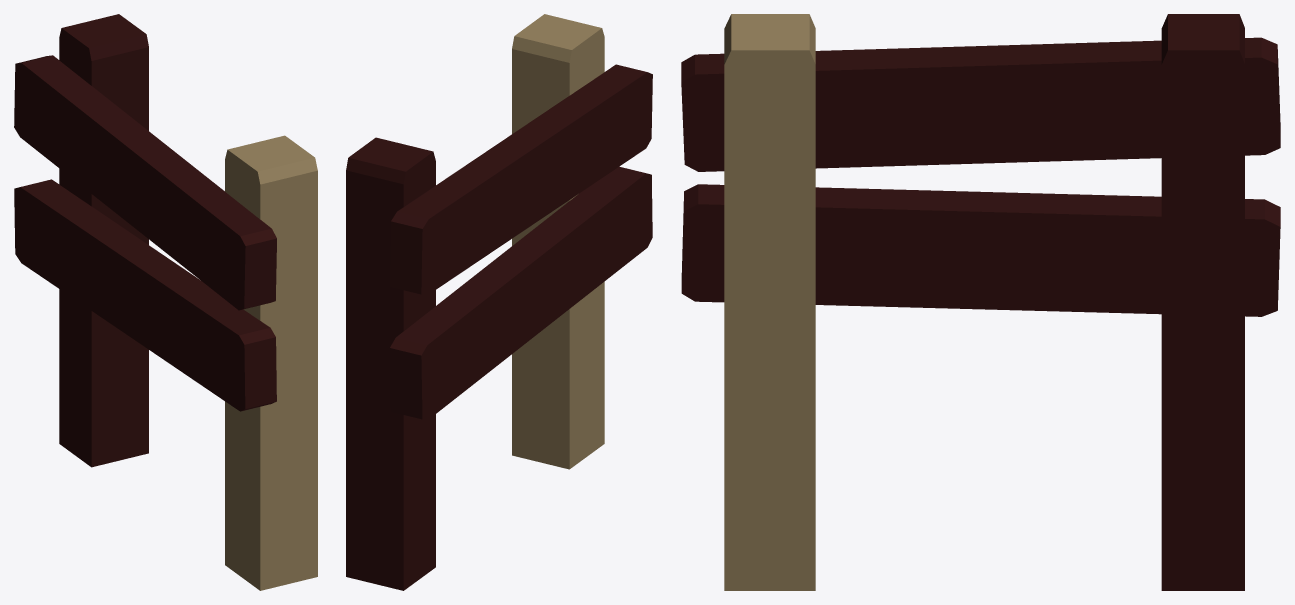
Rendered from fence1.fbx.
3 renders of one model, left to right at view 1: azimuth 30°, elevation 25°; view 2: azimuth 150°, elevation 25°; view 3: azimuth 270°, elevation 25°, orthographic. The views are drawn at different scales.
Parts seen in each view (by area): view 1: Cube.011; view 2: Cube.011; view 3: Cube.011.
Part boxes in pixels (x1=…): Cube.011: x1=14, y1=14, x2=317, y2=590; Cube.011: x1=346, y1=14, x2=652, y2=590; Cube.011: x1=681, y1=14, x2=1280, y2=590.
Bounding box in the file's own units: 34 × 152 × 153.
